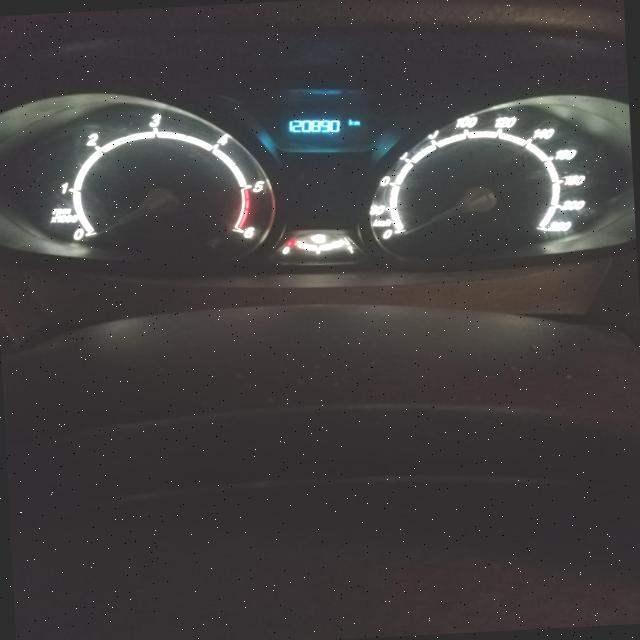odometer: (278, 110, 367, 146)
